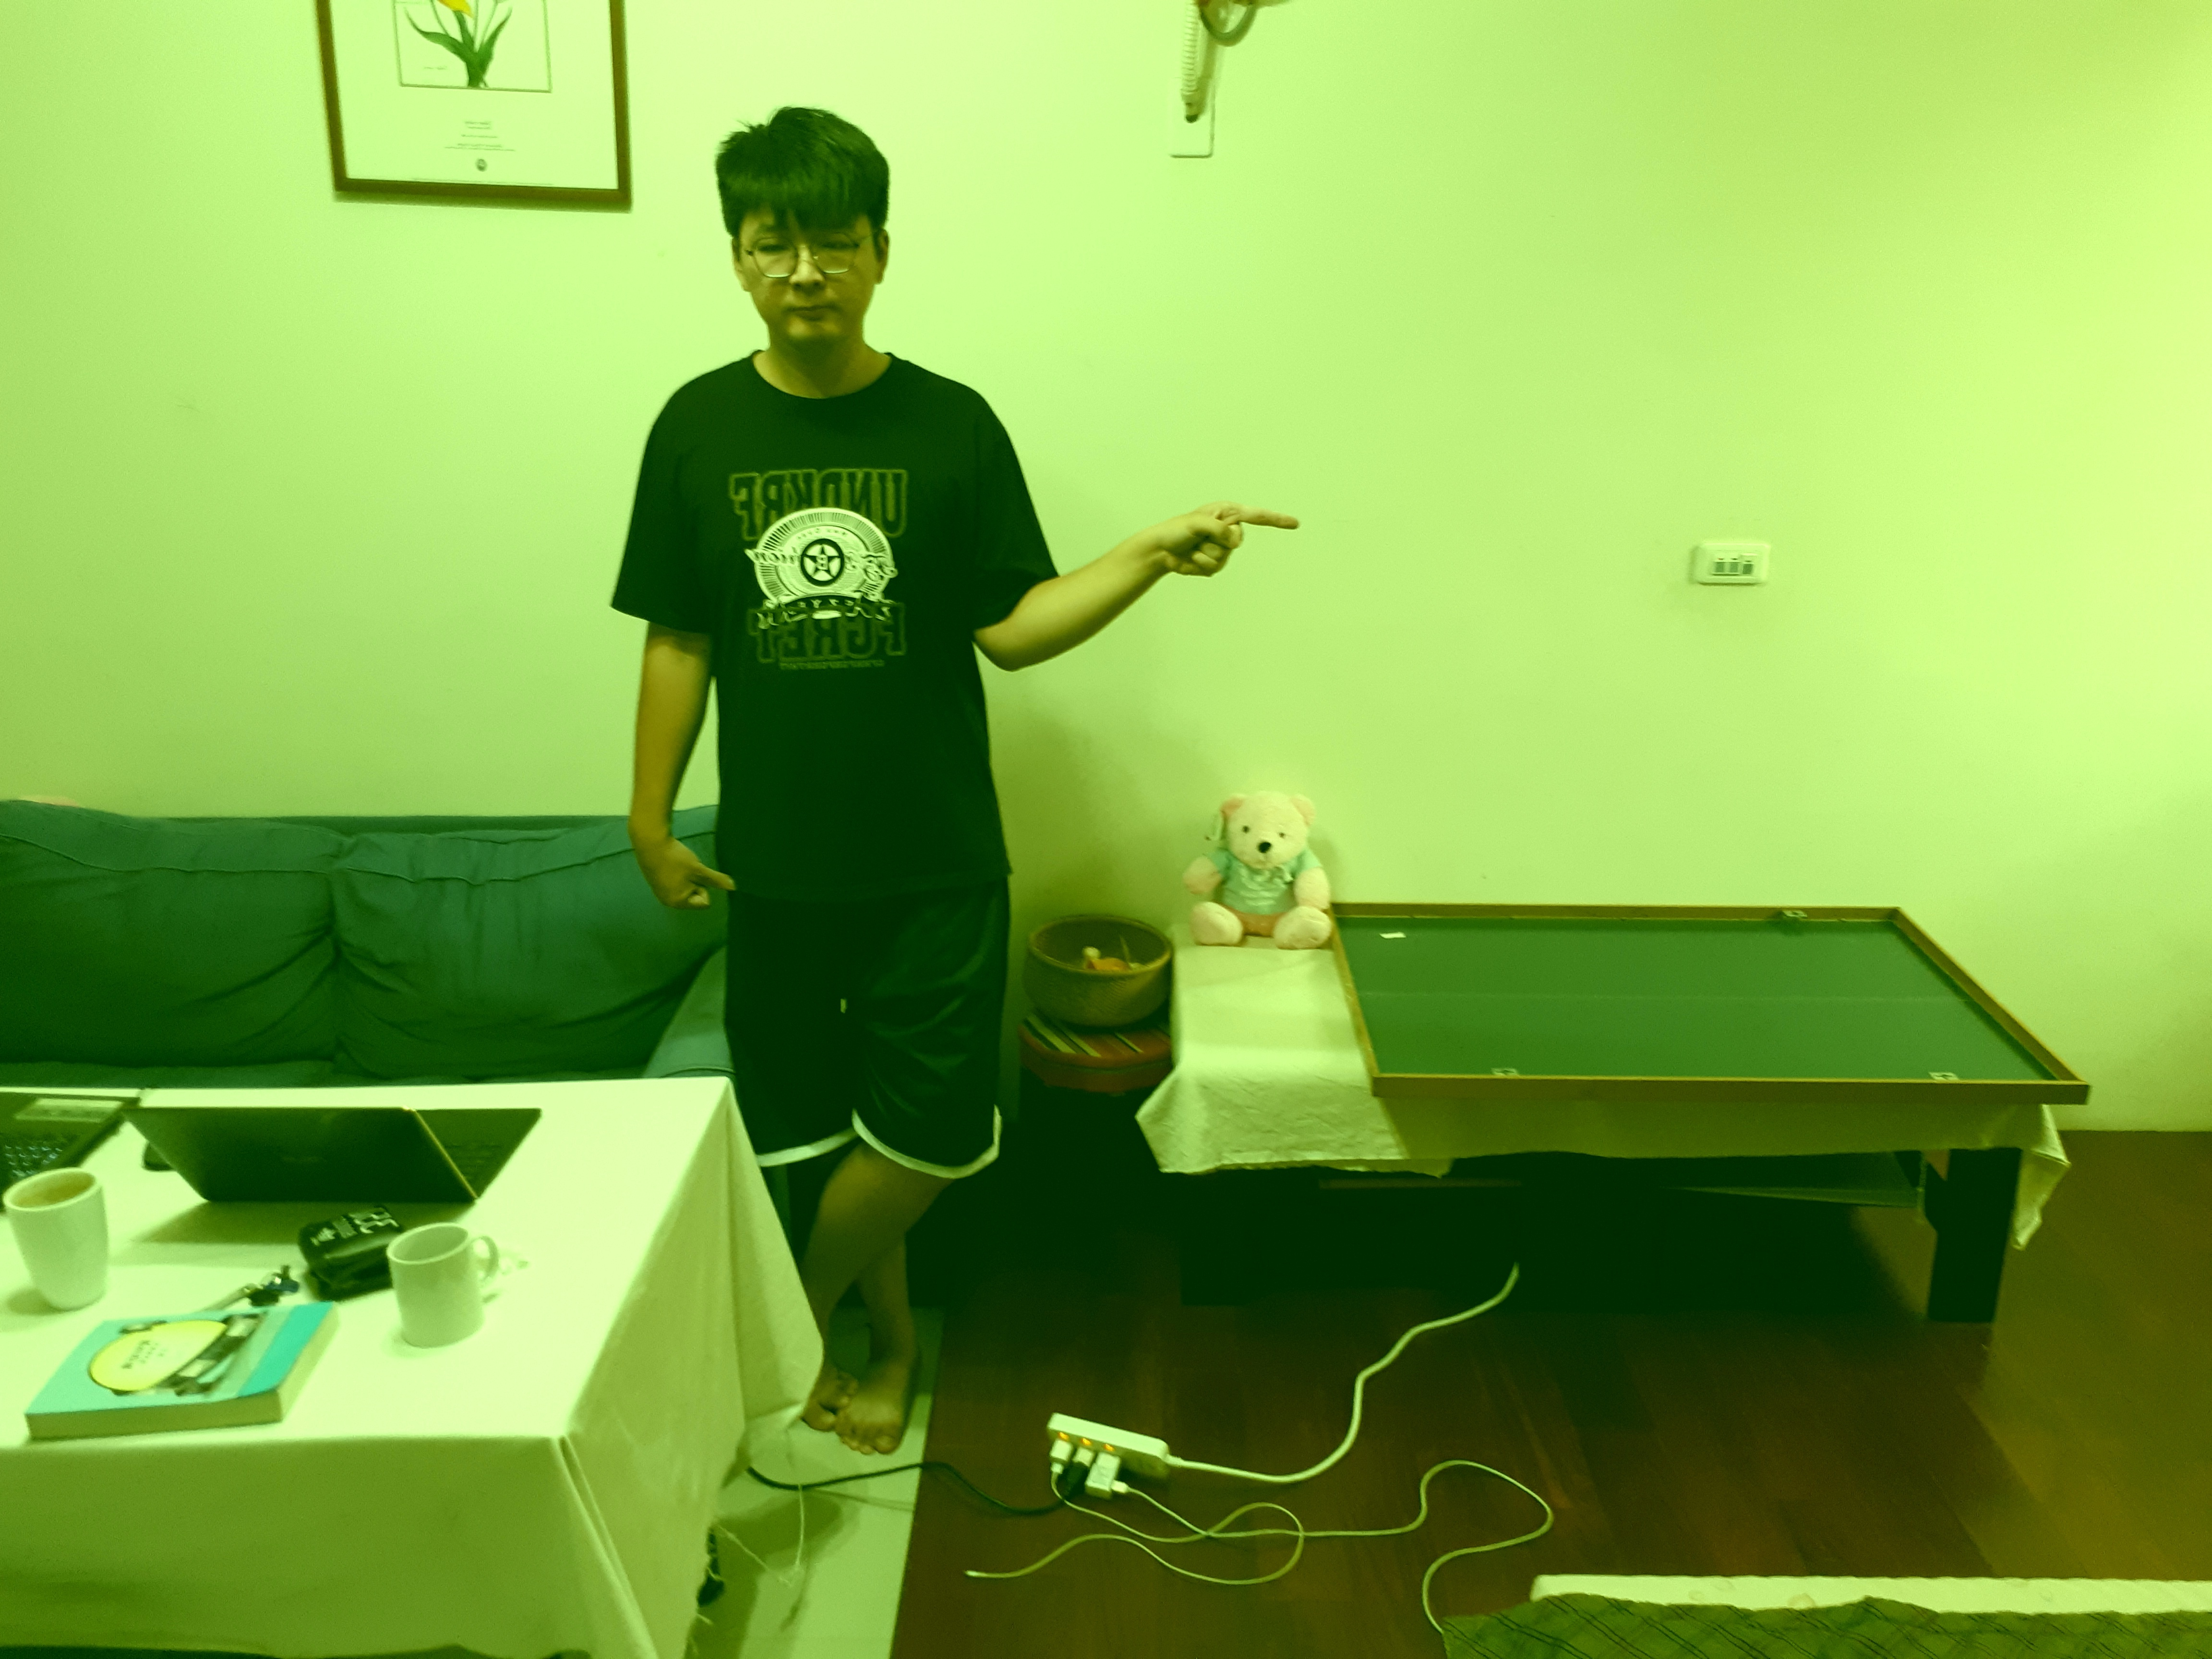right: (1137, 497, 1312, 591)
